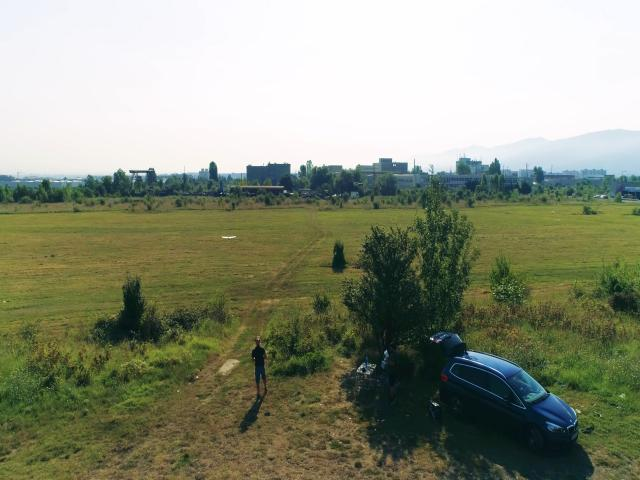plane: (221, 235, 240, 242)
